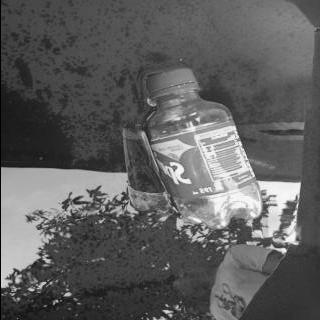bottle: (140, 63, 267, 233)
